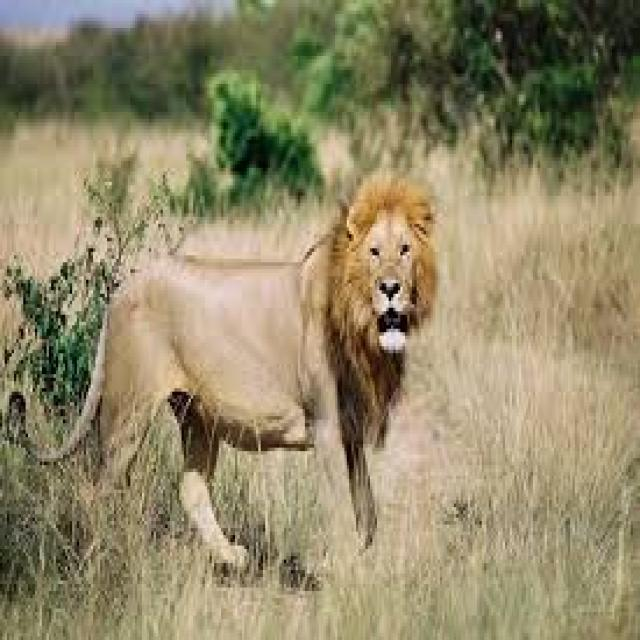Lion: (83, 178, 435, 563)
